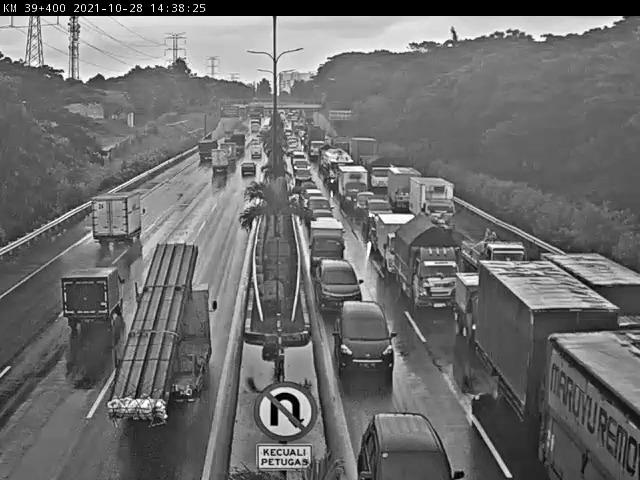big truck: (479, 258, 611, 433), (537, 326, 639, 480), (543, 250, 640, 330), (463, 225, 530, 278)
car: (357, 405, 441, 480), (337, 295, 401, 376), (317, 259, 378, 315), (367, 195, 392, 221), (306, 196, 340, 211), (356, 194, 376, 215), (310, 209, 334, 220), (240, 160, 256, 176), (306, 188, 328, 199)
small truck: (112, 283, 217, 407), (396, 219, 462, 316), (60, 258, 123, 333), (376, 213, 438, 277), (90, 191, 152, 248), (411, 179, 466, 239), (458, 272, 499, 342), (309, 218, 351, 268), (390, 165, 419, 211), (210, 149, 233, 174), (194, 139, 220, 160)
